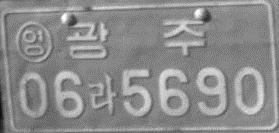0: (18, 70, 49, 121), (233, 65, 264, 116)
5: (121, 69, 152, 117)
6: (156, 67, 189, 117), (52, 70, 84, 118)
9: (194, 66, 228, 117)
광주_D: (65, 19, 206, 60)
라: (88, 73, 117, 116)
영: (14, 20, 53, 63)
